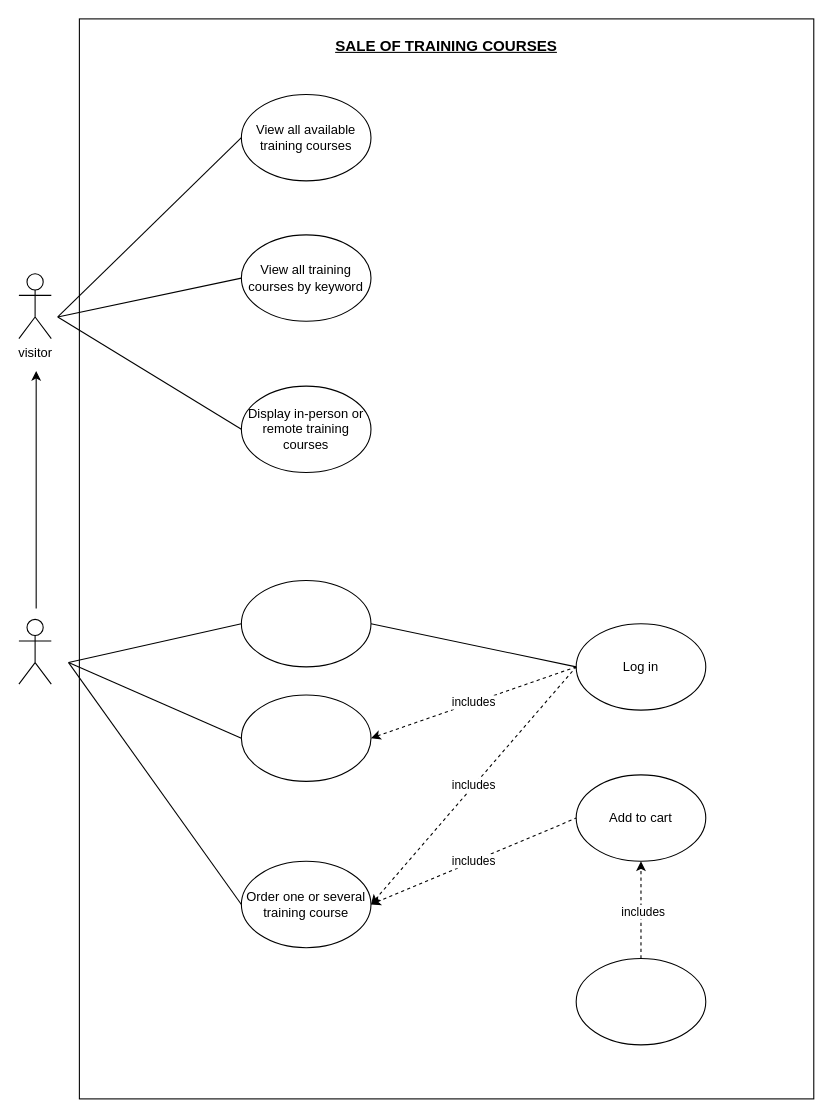
This 833x1118 diagram has some shape labels left out. The shapes that lost their labels are listed below. From the top down, each one's box as (x1, y1, x2, y2) in pixels, then its label:
(240, 579, 371, 667): Create his profile
(18, 618, 51, 684): user
(240, 694, 371, 781): register a customer
(575, 957, 706, 1045): Addition/removal of one or more training courses
